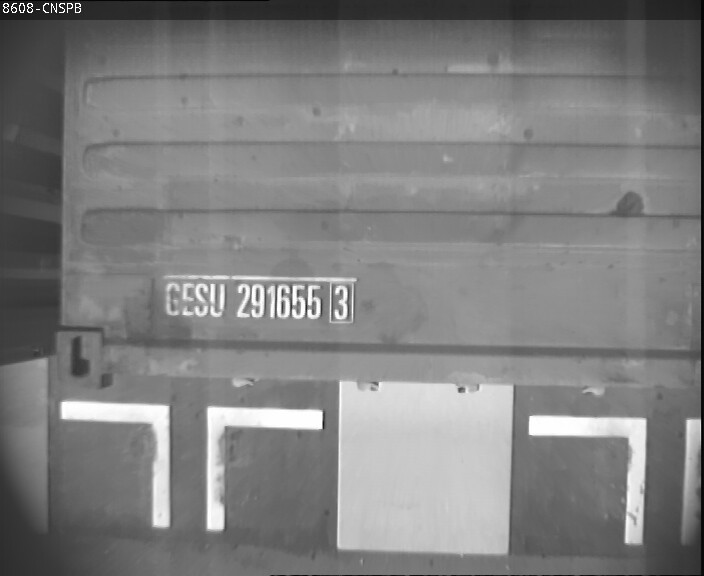groundmarker_1: (59, 398, 322, 527)
